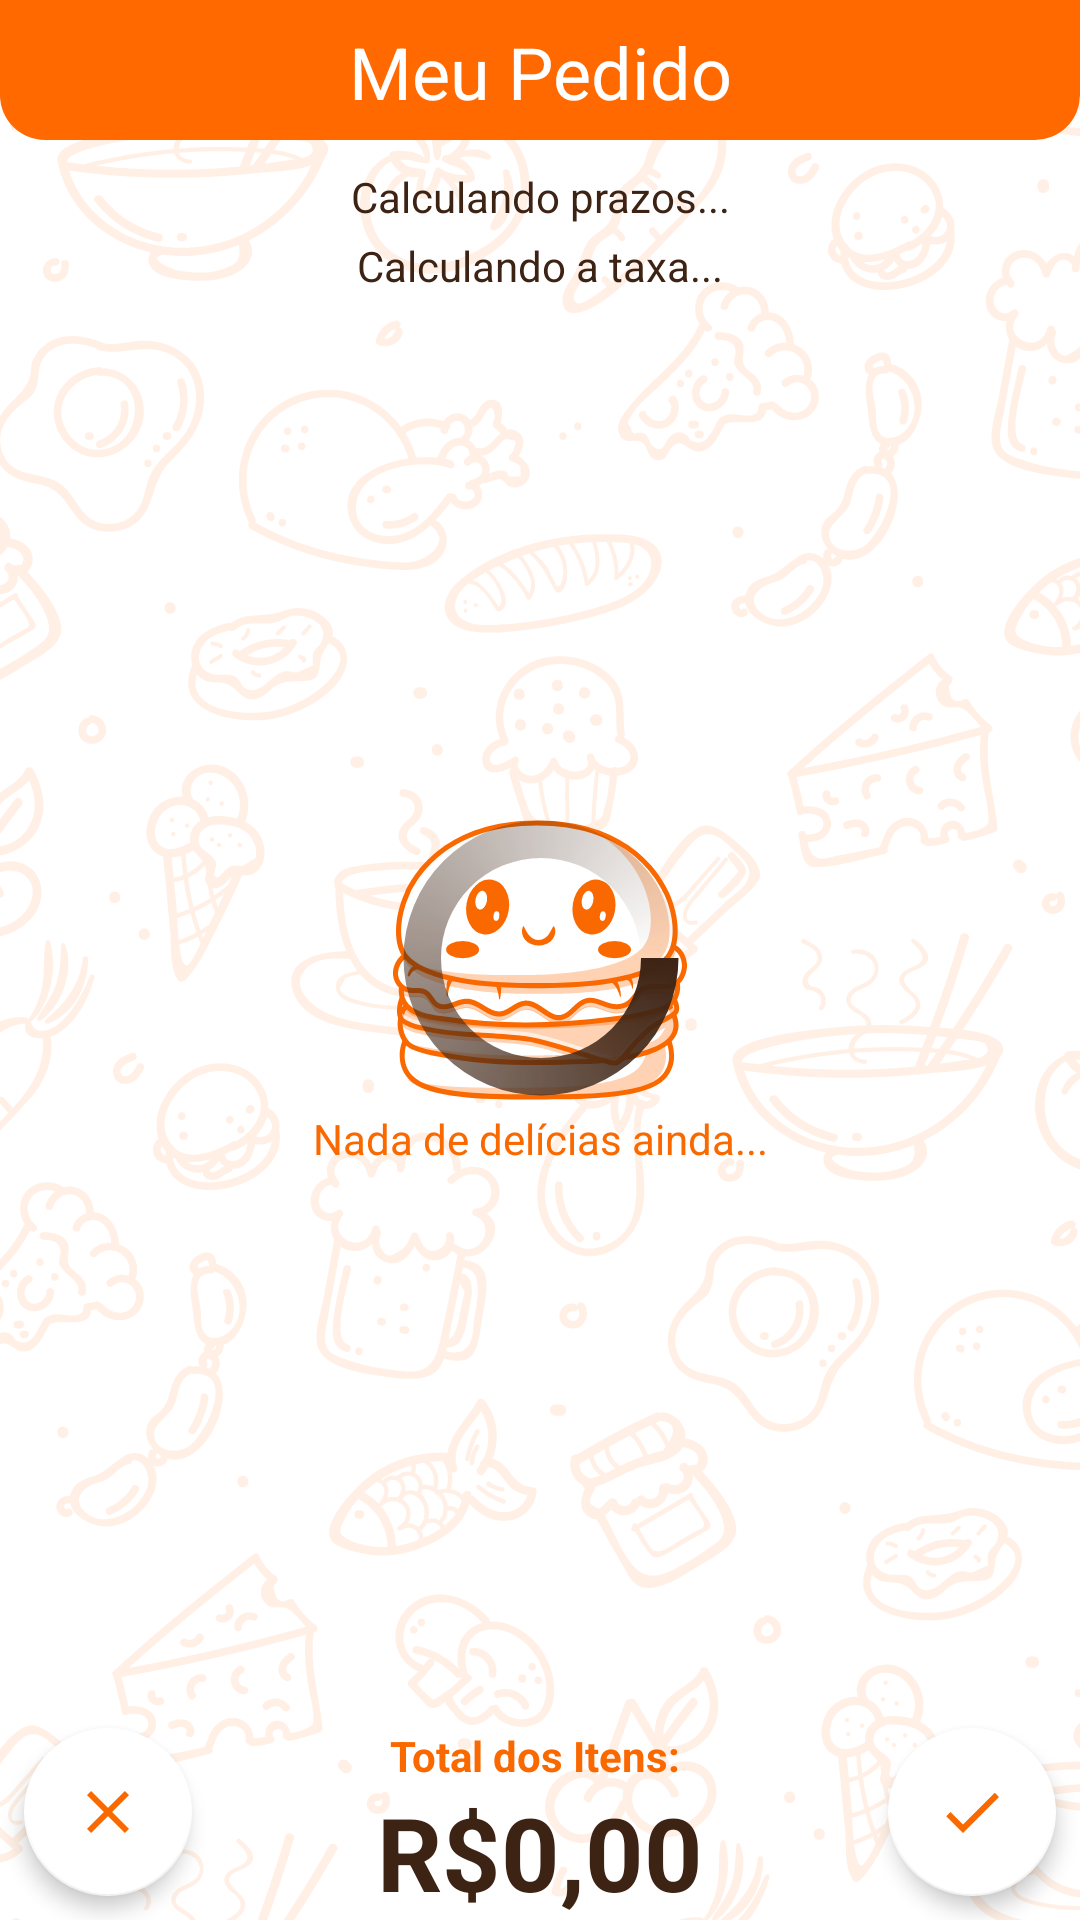

Icons on this 1080x1920 Android screen, each with its box as (x1, y1, x2, y2):
check: (888, 1728, 1056, 1896)
close: (24, 1728, 192, 1896)
sem dados: (390, 810, 690, 1110)
